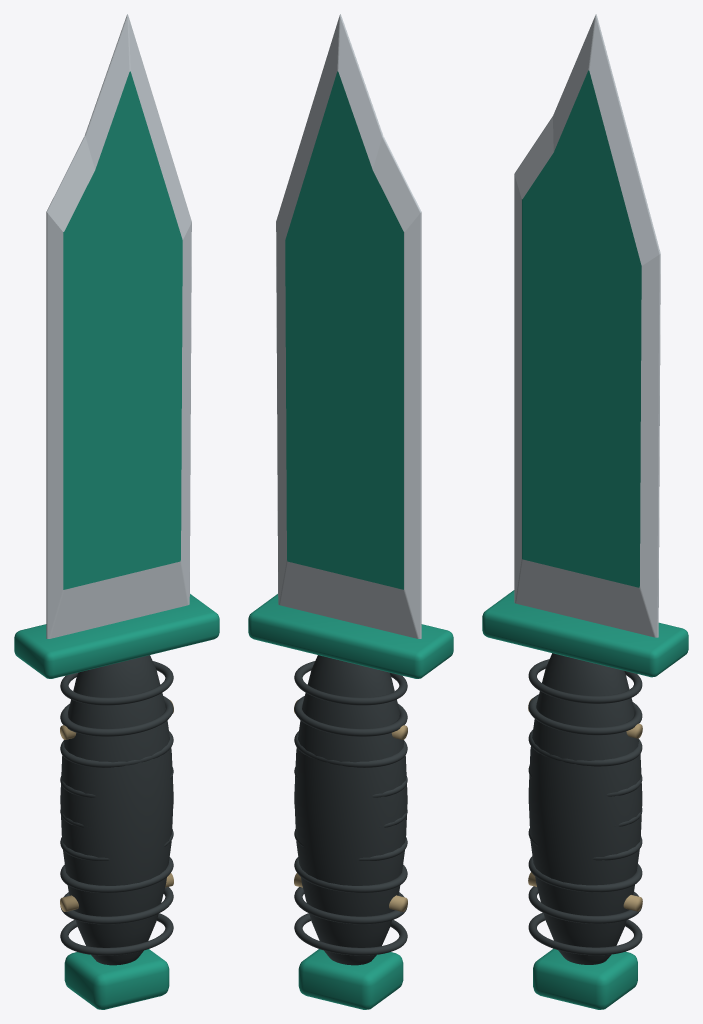
The model's file is knife_01.glb.
3 renders of one model, left to right at view 1: azimuth 30°, elevation 25°; view 2: azimuth 150°, elevation 25°; view 3: azimuth 330°, elevation 25°, orthographic.
Parts seen in each view (by area): view 1: Blade, Ergonomic handle, Full tang hand guard, Solid tang pommel, Raised nonslip grip rib.008, Raised nonslip grip rib, Raised nonslip grip rib.007, Raised nonslip grip rib.001, Raised nonslip grip rib.002, Raised nonslip grip rib.006; view 2: Blade, Ergonomic handle, Full tang hand guard, Solid tang pommel, Raised nonslip grip rib.008, Raised nonslip grip rib, Raised nonslip grip rib.007, Raised nonslip grip rib.001, Raised nonslip grip rib.002, Raised nonslip grip rib.006; view 3: Blade, Ergonomic handle, Full tang hand guard, Solid tang pommel, Raised nonslip grip rib, Raised nonslip grip rib.008, Raised nonslip grip rib.007, Raised nonslip grip rib.001, Raised nonslip grip rib.002, Raised nonslip grip rib.006.
Part boxes in pixels (x1,y1,x2,y2): Blade: (46,14,191,638); Ergonomic handle: (60,655,173,965); Full tang hand guard: (14,594,219,678); Solid tang pommel: (64,949,169,1009); Raised nonslip grip rib.008: (60,661,173,705); Raised nonslip grip rib: (60,913,173,955); Raised nonslip grip rib.007: (60,696,173,736); Raised nonslip grip rib.001: (60,887,173,924); Raised nonslip grip rib.002: (60,857,173,892); Raised nonslip grip rib.006: (60,731,173,767); Blade: (276,14,421,638); Ergonomic handle: (294,655,407,965); Full tang hand guard: (248,594,453,678); Solid tang pommel: (298,949,403,1009); Raised nonslip grip rib.008: (294,661,407,705); Raised nonslip grip rib: (294,913,407,955); Raised nonslip grip rib.007: (294,696,407,736); Raised nonslip grip rib.001: (294,887,407,924); Raised nonslip grip rib.002: (294,857,407,892); Raised nonslip grip rib.006: (294,731,407,767); Blade: (514,14,660,637); Ergonomic handle: (528,653,642,964); Full tang hand guard: (482,590,688,677); Solid tang pommel: (533,948,637,1009); Raised nonslip grip rib: (528,912,642,955); Raised nonslip grip rib.008: (528,659,642,703); Raised nonslip grip rib.007: (528,694,642,735); Raised nonslip grip rib.001: (528,886,642,923); Raised nonslip grip rib.002: (528,856,642,892); Raised nonslip grip rib.006: (528,730,642,766).
Size of the model in its own units: 0.082 by 0.4368 by 0.04.
